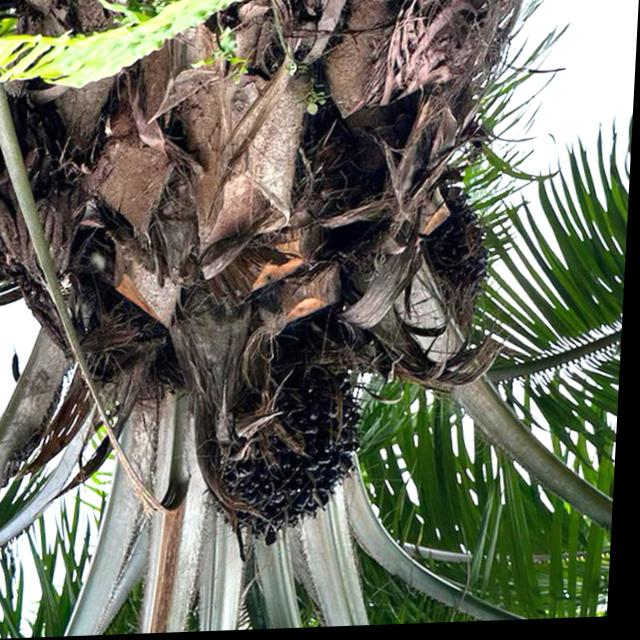unripe: (205, 363, 372, 542), (367, 183, 499, 335)
